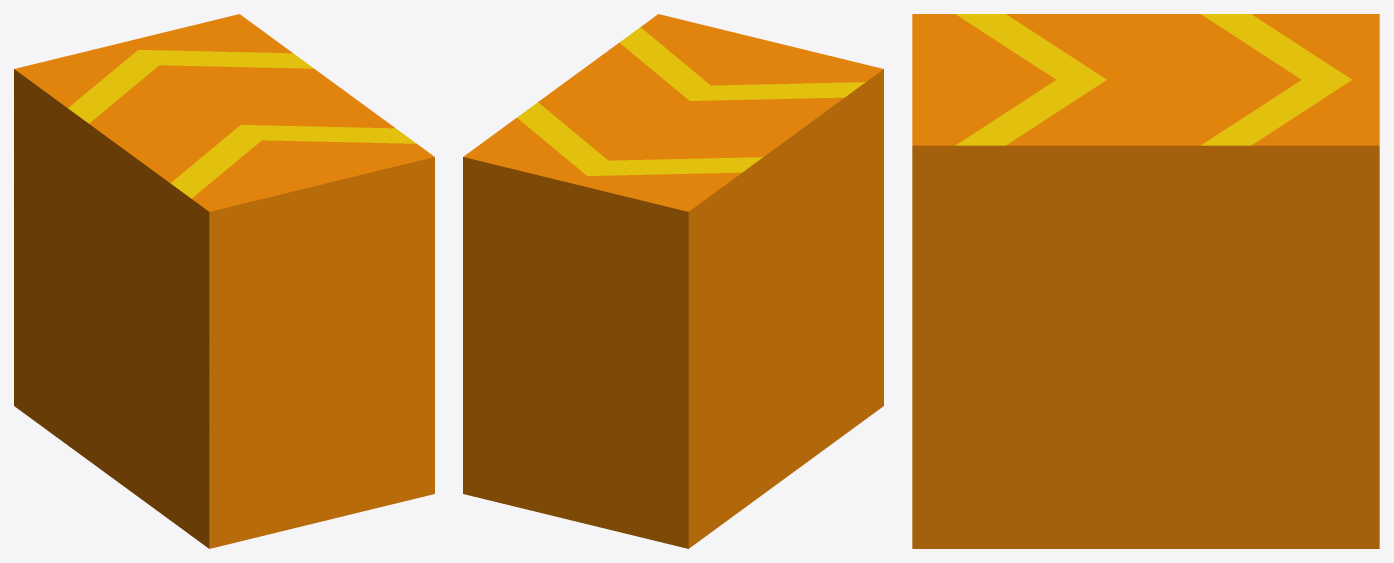
File: Floor1.fbx
The picture shows the model from 3 angles, left to right: view 1: azimuth 30°, elevation 25°; view 2: azimuth 150°, elevation 25°; view 3: azimuth 270°, elevation 25°; orthographic projection. The views are drawn at different scales.
Visible parts, largest first — view 1: Cube; view 2: Cube; view 3: Cube.
Part boxes in pixels (x1,y1,x2,y2): Cube: (14,14,434,548); Cube: (463,14,883,548); Cube: (912,14,1379,548).
Size of the model in its own units: 840 by 1200 by 1260.
